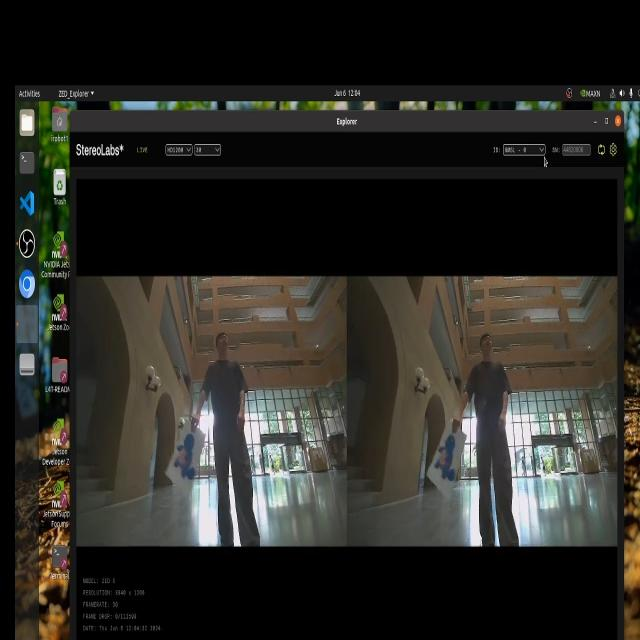blue: (178, 428, 202, 484), (436, 426, 456, 482)
